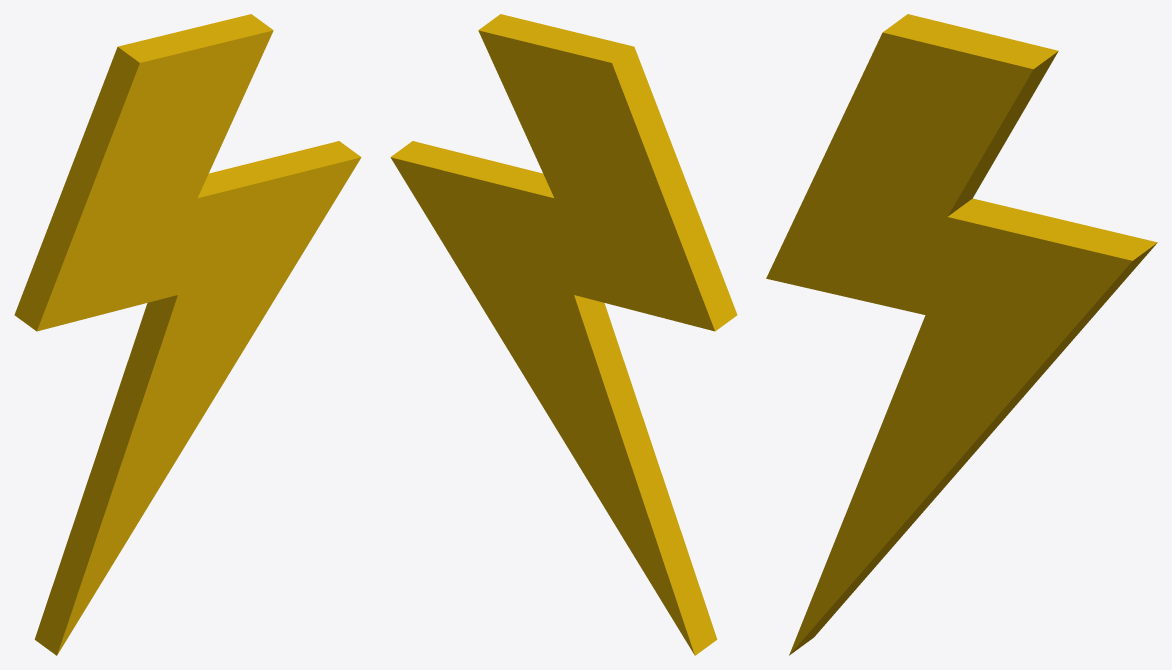
Rendered from Thunder.fbx.
3 renders of one model, left to right at view 1: azimuth 30°, elevation 25°; view 2: azimuth 150°, elevation 25°; view 3: azimuth 330°, elevation 25°, orthographic. The views are drawn at different scales.
Parts seen in each view (by area): view 1: Plane.001; view 2: Plane.001; view 3: Plane.001.
Boxes of the visible parts, x1,y1,x2,y2 form: Plane.001: (14, 14, 361, 655); Plane.001: (390, 14, 737, 655); Plane.001: (766, 14, 1157, 655).
Size of the model in its own units: 158 by 266 by 18.81.
